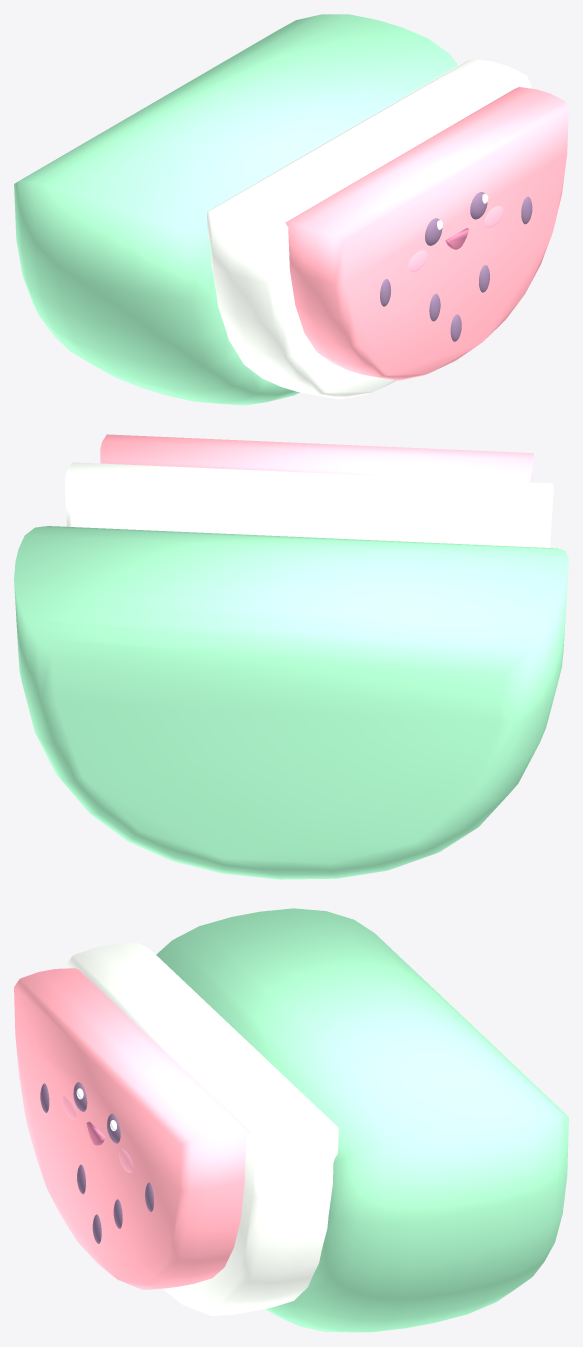
Rendered from life_watermelon.glb.
The picture shows the model from 3 angles, top to bottom: view 1: azimuth 30°, elevation 25°; view 2: azimuth 150°, elevation 25°; view 3: azimuth 270°, elevation 25°; orthographic projection. The views are drawn at different scales.
Parts seen in each view (by area): view 1: wrap_watermelon_1; view 2: wrap_watermelon_1; view 3: wrap_watermelon_1.
Boxes of the visible parts, x1=… form: wrap_watermelon_1: x1=14, y1=14, x2=568, y2=405; wrap_watermelon_1: x1=14, y1=434, x2=568, y2=879; wrap_watermelon_1: x1=14, y1=908, x2=568, y2=1332.
Bounding box in the file's own units: 3.88 × 2.12 × 3.72.
